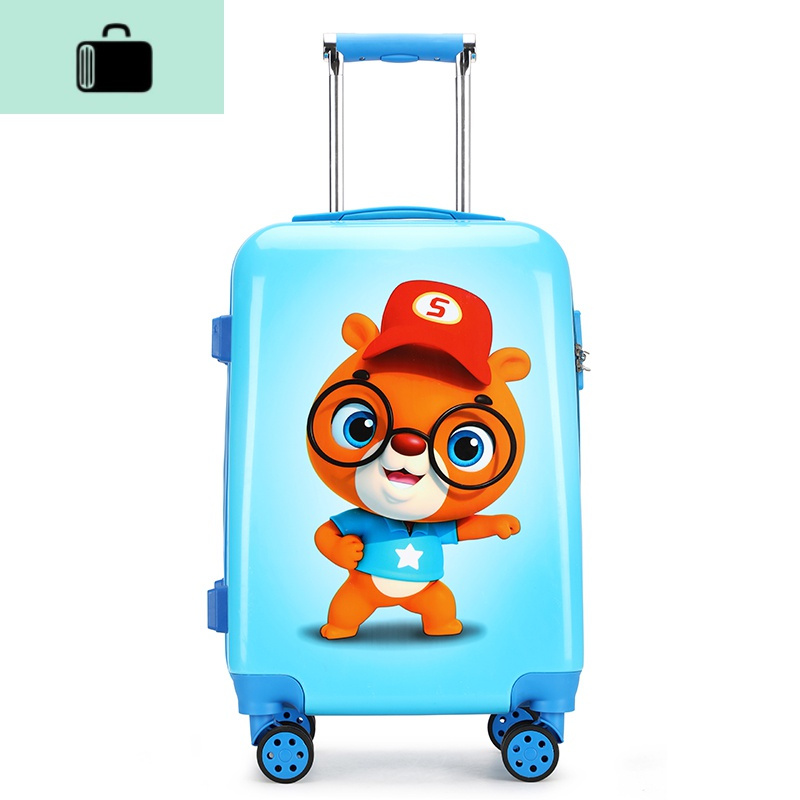box: (227, 223, 586, 716)
handle: (292, 205, 506, 223)
wheel: (256, 721, 315, 784), (501, 720, 560, 783), (488, 707, 544, 752)
